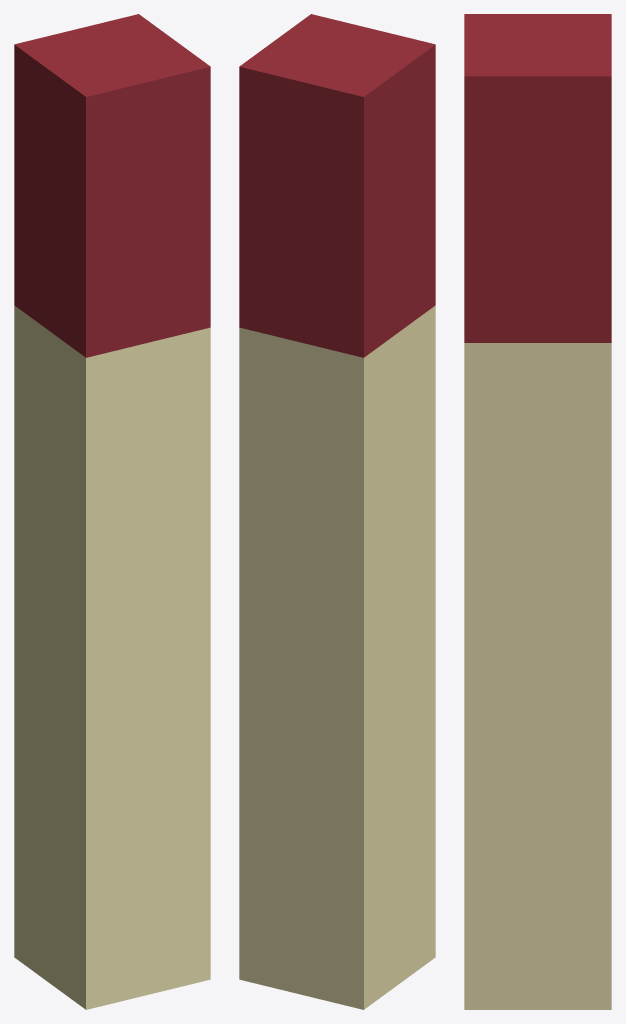
File: matchstick.obj
The picture shows the model from 3 angles, left to right: view 1: azimuth 30°, elevation 25°; view 2: azimuth 150°, elevation 25°; view 3: azimuth 270°, elevation 25°; orthographic projection. The views are drawn at different scales.
Bounding box in the file's own units: 0.1 × 0.7 × 0.1.
Materials: 1 (1 with a texture image).
